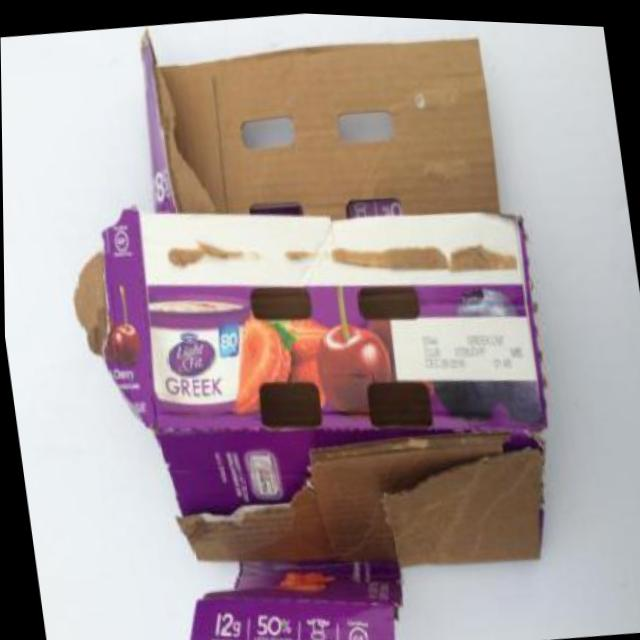box: (31, 1, 596, 640)
